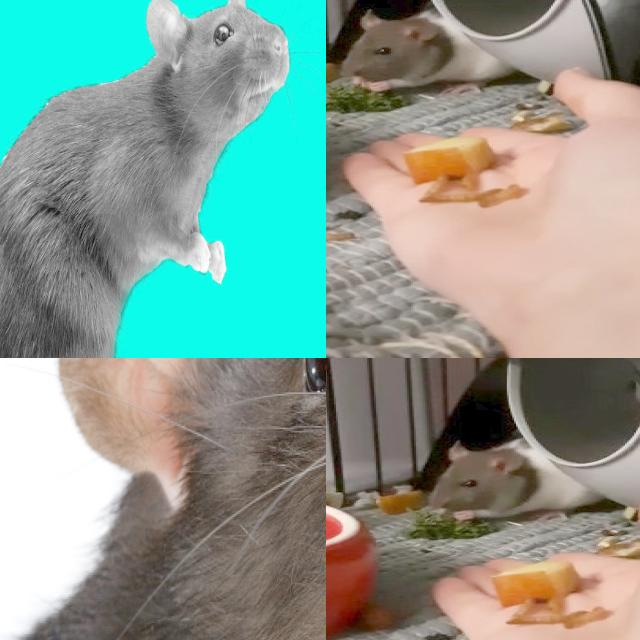rat: (0, 0, 310, 358), (0, 358, 326, 640), (431, 434, 631, 523), (339, 4, 535, 93)
